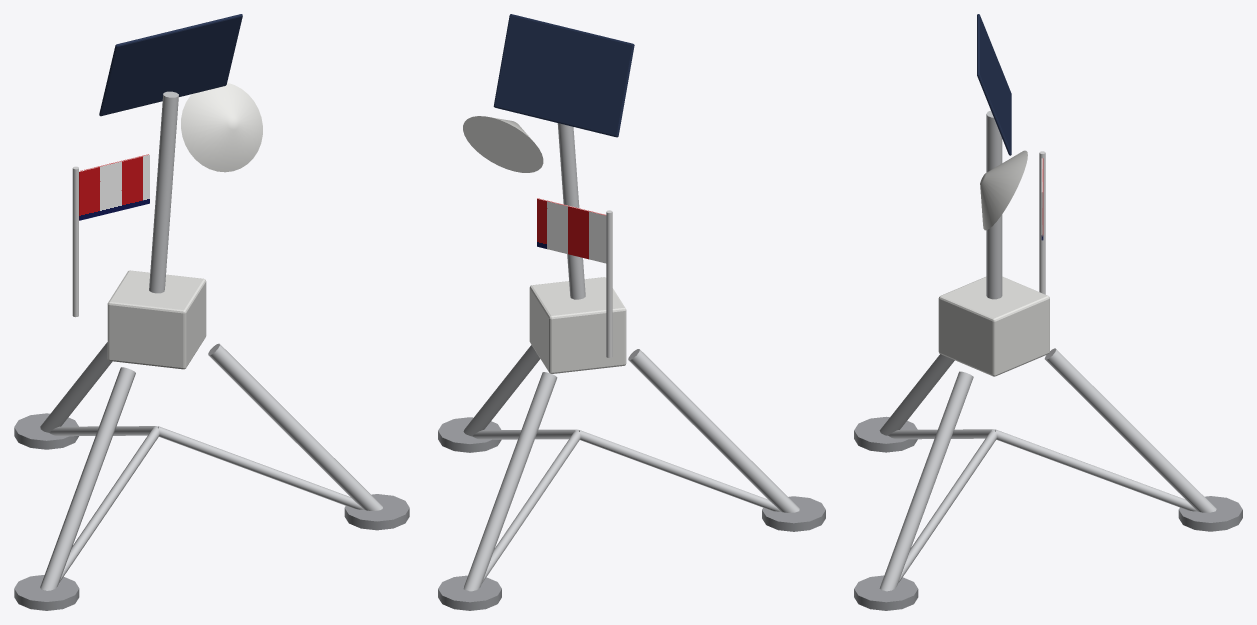
Rendered from mission-surveyor.glb.
The picture shows the model from 3 angles, left to right: view 1: azimuth 30°, elevation 25°; view 2: azimuth 150°, elevation 25°; view 3: azimuth 270°, elevation 25°; orthographic projection.
Parts seen in each view (by area): view 1: panel, bus, dish, leg_1, leg_2, flagcloth, mast, brace_2, pad_1, brace_1, leg_0, pad_2 (+3 smaller); view 2: panel, bus, leg_0, leg_1, flagcloth, dish, brace_1, mast, leg_2, pad_0, brace_0, pad_1 (+3 smaller); view 3: bus, leg_2, leg_0, panel, brace_0, mast, dish, pad_2, brace_2, leg_1, pad_0, pad_1 (+2 smaller).
Boxes of the visible parts, x1,y1,x2,y2 form: panel: (99, 14, 242, 116); bus: (107, 270, 206, 369); dish: (181, 82, 262, 172); leg_1: (40, 367, 135, 590); leg_2: (208, 343, 382, 510); flagcloth: (79, 154, 149, 220); mast: (149, 91, 178, 293); brace_2: (158, 426, 363, 509); pad_1: (14, 575, 79, 610); brace_1: (59, 427, 159, 582); leg_0: (40, 342, 112, 432); pad_2: (344, 494, 409, 530); panel: (493, 14, 634, 137); bus: (529, 277, 626, 373); leg_0: (463, 372, 557, 591); leg_1: (628, 349, 799, 512); flagcloth: (537, 198, 606, 263); dish: (463, 116, 543, 172); brace_1: (579, 430, 780, 511); mast: (557, 123, 585, 299); leg_2: (463, 345, 540, 436); pad_0: (438, 575, 501, 610); brace_0: (482, 431, 580, 583); pad_1: (762, 496, 825, 531); bus: (938, 276, 1049, 376); leg_2: (879, 371, 973, 591); leg_0: (1044, 348, 1216, 512); panel: (977, 14, 1011, 155); brace_0: (995, 429, 1196, 511); mast: (986, 110, 1002, 299); dish: (980, 150, 1027, 230); pad_2: (854, 575, 918, 610); brace_2: (898, 430, 997, 583); leg_1: (879, 354, 954, 435); pad_0: (1178, 496, 1242, 531); pad_1: (854, 416, 917, 452).
Bounding box in the file's own units: 3.42 × 4.14 × 3.03.
Materials: 6 (1 with a texture image).
